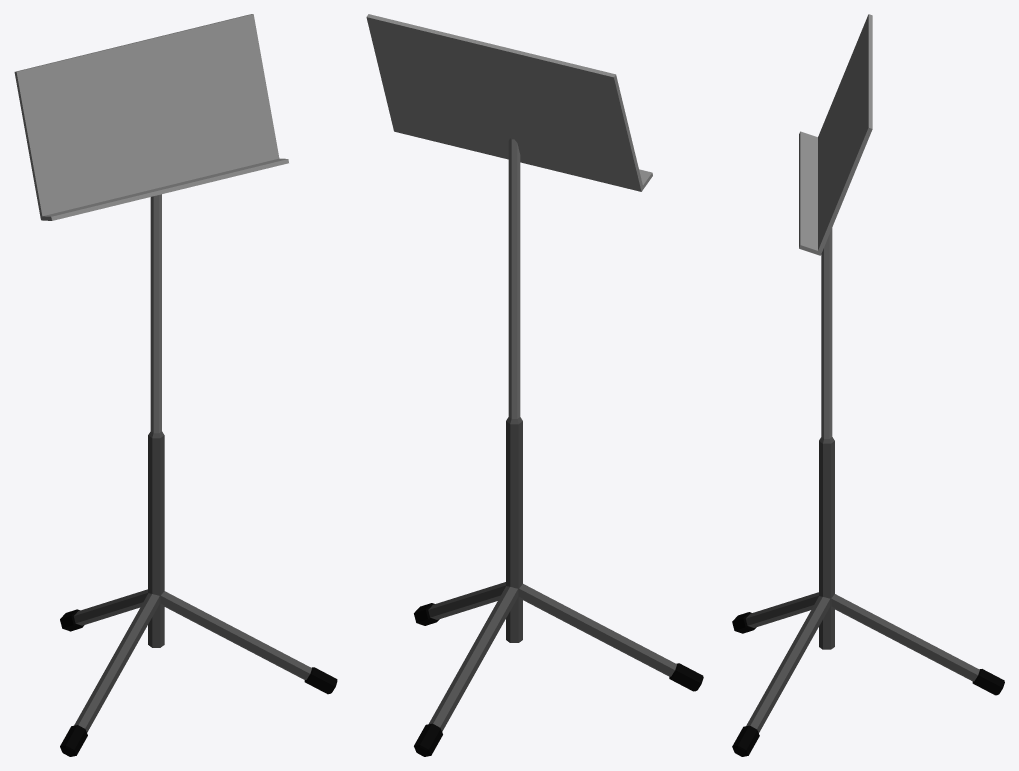
Rendered from Note Stand.fbx.
3 views of the same model, side by side, from view 1: azimuth 30°, elevation 25°; view 2: azimuth 150°, elevation 25°; view 3: azimuth 270°, elevation 25° (orthographic). The views are drawn at different scales.
Parts seen in each view (by area): view 1: Stand Note; view 2: Stand Note; view 3: Stand Note.
Part boxes in pixels (box(x1,y1,x2,y2)): Stand Note: box(14, 14, 337, 756); Stand Note: box(366, 14, 703, 756); Stand Note: box(732, 14, 1004, 756).
Size of the model in its own units: 39.21 by 86.59 by 34.28.
